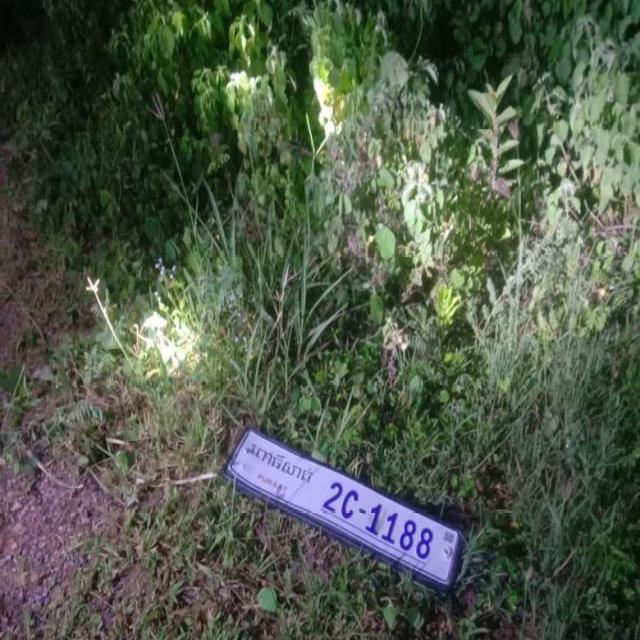Pursat: (249, 442, 313, 485)
